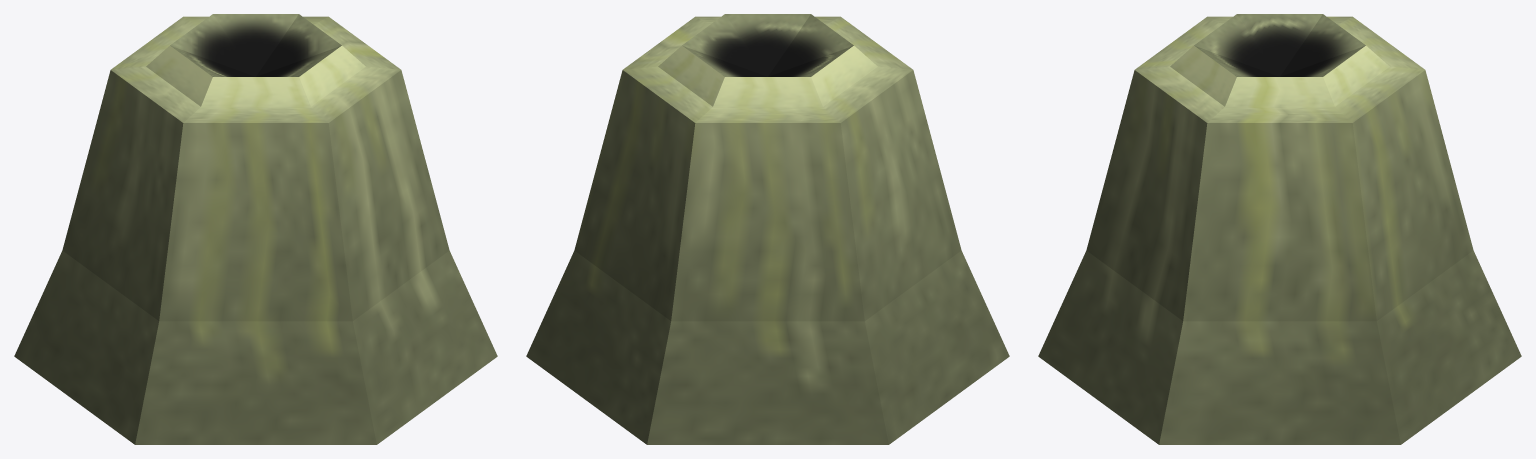
The model's file is Barnacle4.fbx.
3 views of the same model, side by side, from view 1: azimuth 30°, elevation 25°; view 2: azimuth 150°, elevation 25°; view 3: azimuth 270°, elevation 25° (orthographic).
Parts seen in each view (by area): view 1: Barnacle4; view 2: Barnacle4; view 3: Barnacle4.
Boxes of the visible parts, bbox=[...] form: Barnacle4: bbox=[14, 14, 497, 444]; Barnacle4: bbox=[526, 14, 1009, 444]; Barnacle4: bbox=[1038, 14, 1521, 444].
Size of the model in its own units: 46.77 by 38.32 by 54.01.
